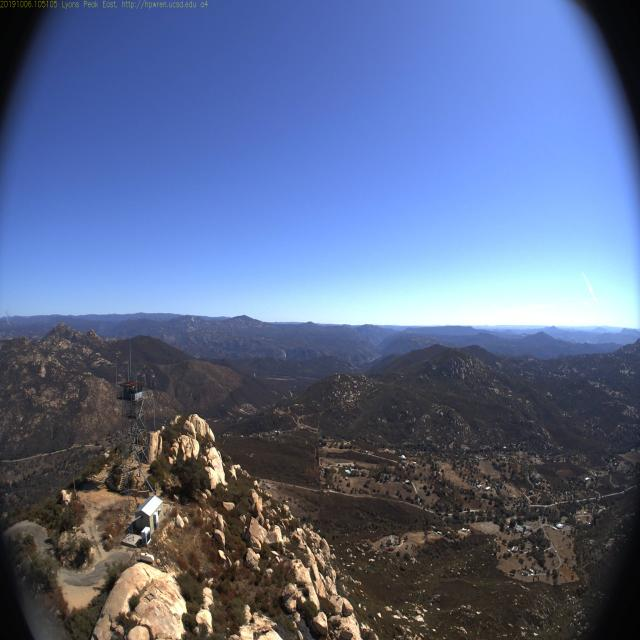smoke: (1, 303, 12, 321)
